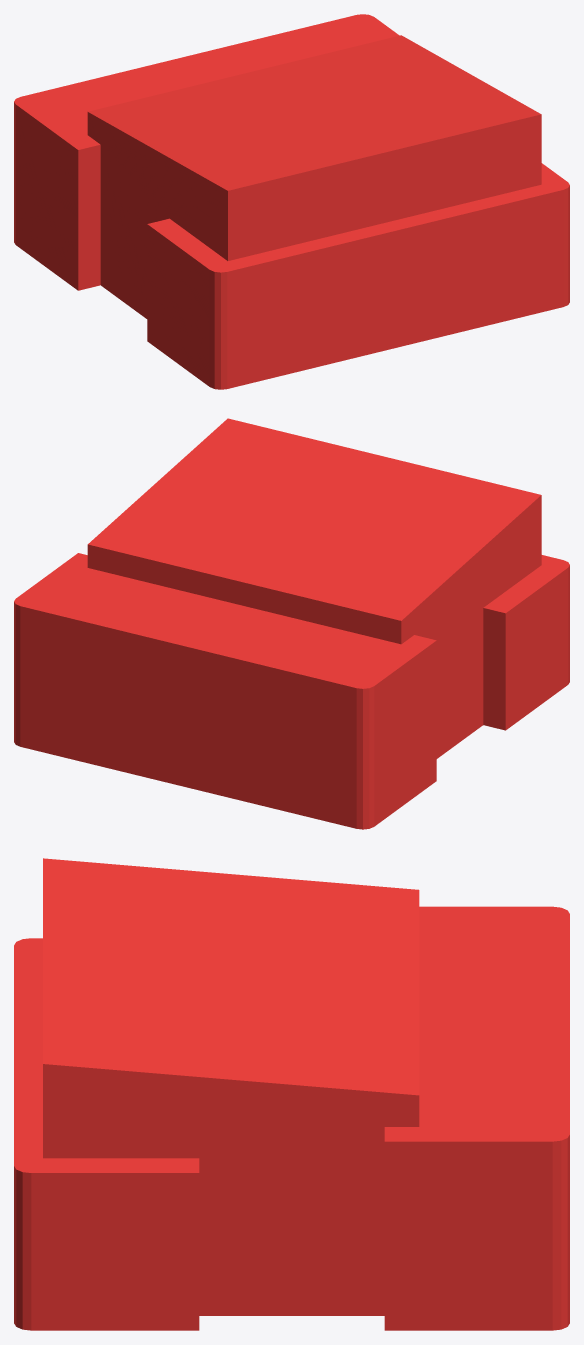
The model's file is school.fbx.
The picture shows the model from 3 angles, top to bottom: view 1: azimuth 30°, elevation 25°; view 2: azimuth 150°, elevation 25°; view 3: azimuth 270°, elevation 25°; orthographic projection. The views are drawn at different scales.
Parts seen in each view (by area): view 1: Cube; view 2: Cube; view 3: Cube.
Part boxes in pixels (<box>): Cube: <box>14,14,569,389</box>; Cube: <box>14,418,569,829</box>; Cube: <box>14,858,569,1330</box>.
Bounding box in the file's own units: 160 × 80 × 160.
